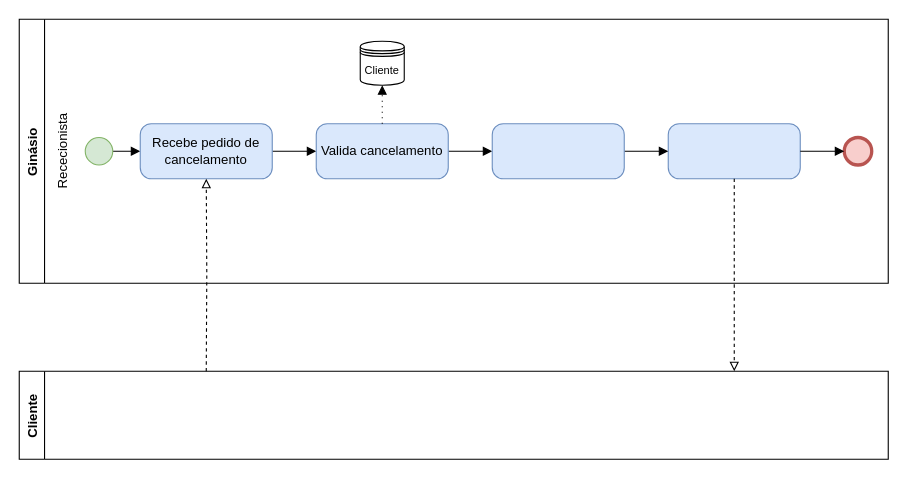
Image size: 908x479. Some labels were removed from this diagram. Each missing label, with the centre of its shape:
Confirma cancelamento: point 557,151
Informa cliente: point 733,151
